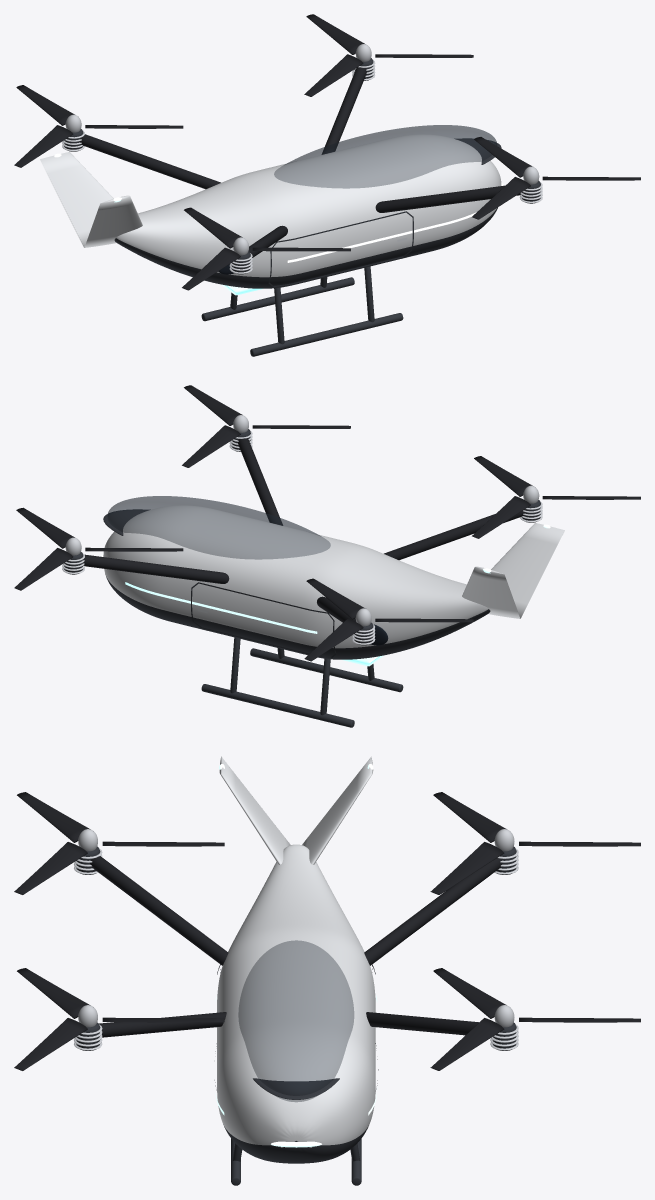
The model's file is evtol-multicoptero.glb.
The picture shows the model from 3 angles, top to bottom: view 1: azimuth 30°, elevation 25°; view 2: azimuth 150°, elevation 25°; view 3: azimuth 270°, elevation 25°; orthographic projection. The views are drawn at different scales.
Parts seen in each view (by area): view 1: fuselaje, cabina, cola_v (×2), brazo.002, brazo.001, patin.001, patin, brazo, pala.007, pala.004, pala.010, pala.001 (+6 smaller); view 2: fuselaje, cabina, cola_v (×2), brazo, patin, brazo.003, patin.001, brazo.001, pala, pala.006, pala.009, pala.003 (+7 smaller); view 3: fuselaje, cabina, cola_v (×2), brazo.003, brazo.002, brazo, brazo.001, marco_cabina, pala.005, pala.011, pala.002, pala.008 (+8 smaller).
Boxes of the visible parts, x1,y1,x2,y2 form: fuselaje: (114,134,501,288); cabina: (274,125,497,188); cola_v (×2): (40,152,142,247); brazo.002: (79,134,220,189); brazo.001: (375,185,522,212); patin.001: (250,313,403,356); patin: (201,277,354,321); brazo: (322,67,367,154); pala.007: (14,125,73,167); pala.004: (472,177,530,219); pala.010: (182,247,240,290); pala.001: (304,54,363,96); fuselaje: (103,505,490,659); cabina: (107,496,330,559); cola_v (×2): (462,523,564,618); brazo: (82,554,229,583); patin: (201,684,354,727); brazo.003: (384,509,525,560); patin.001: (250,648,403,692); brazo.001: (237,438,282,525); pala: (14,548,73,590); pala.006: (304,618,363,661); pala.009: (472,496,530,538); pala.003: (182,425,240,467); fuselaje: (217,844,375,1163); cabina: (238,940,353,1101); cola_v (×2): (219,756,373,864); brazo.003: (90,856,228,965); brazo.002: (364,858,502,965); brazo: (366,1012,478,1035); brazo.001: (99,1012,226,1037); marco_cabina: (253,1078,339,1099); pala.005: (14,1018,87,1070); pala.011: (14,842,87,894); pala.002: (430,1018,504,1070); pala.008: (430,842,504,894).
Size of the model in its own units: 4.61 by 1.88 by 4.37.
